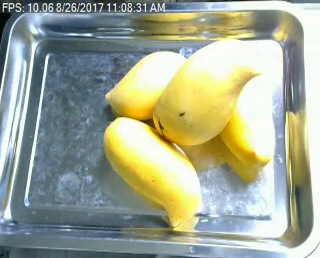Mango: (100, 114, 208, 228), (154, 37, 262, 143), (103, 46, 190, 120), (219, 63, 277, 174)
